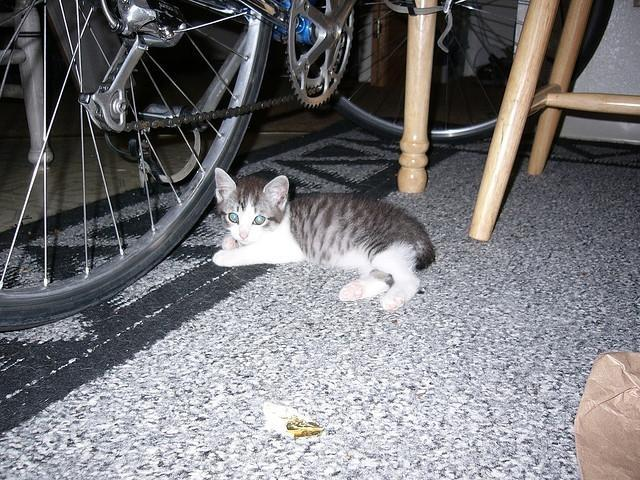bicycle: (2, 0, 616, 334)
